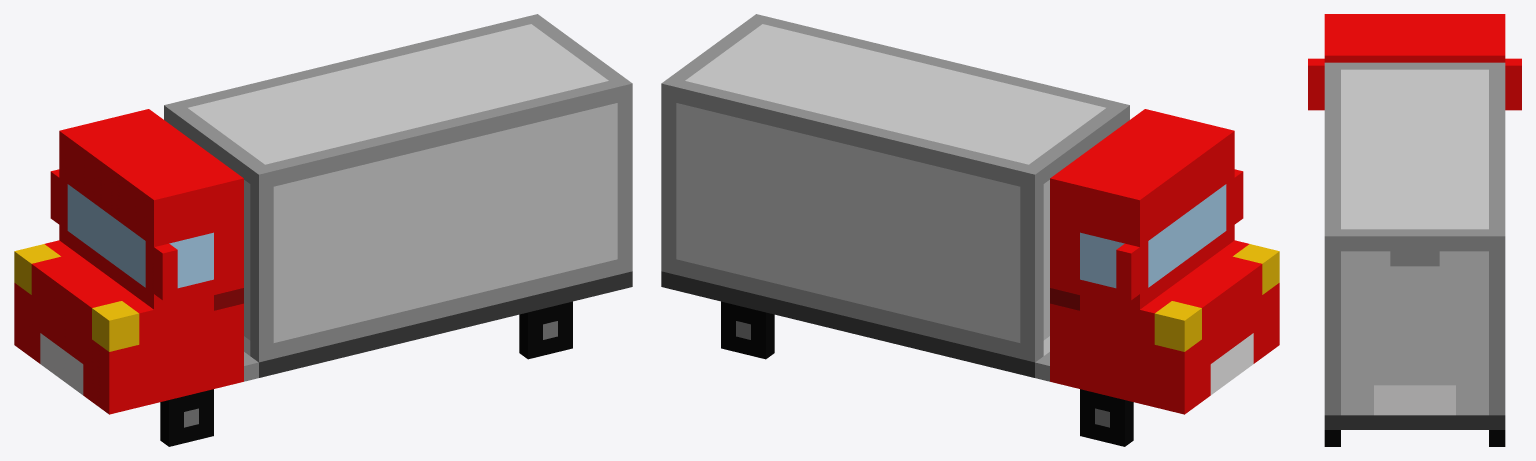
3 renders of one model, left to right at view 1: azimuth 30°, elevation 25°; view 2: azimuth 150°, elevation 25°; view 3: azimuth 270°, elevation 25°, orthographic. The views are drawn at different scales.
Size of the model in its own units: 35 by 16 by 13.
1 material, 1 textured.
